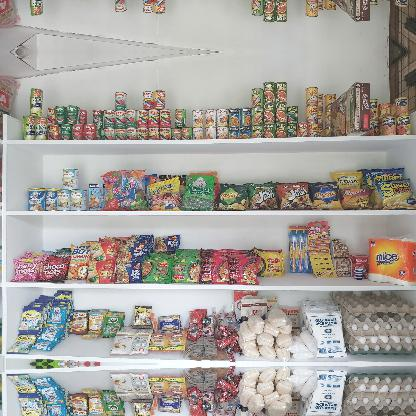Koko-Krunch: (330, 82, 370, 136), (330, 0, 370, 22)
